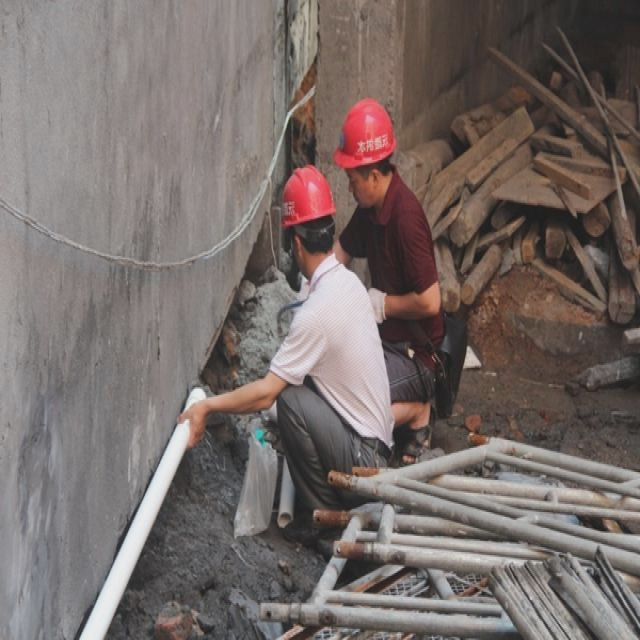Con_Casco: (340, 98, 397, 195), (284, 163, 335, 258)
